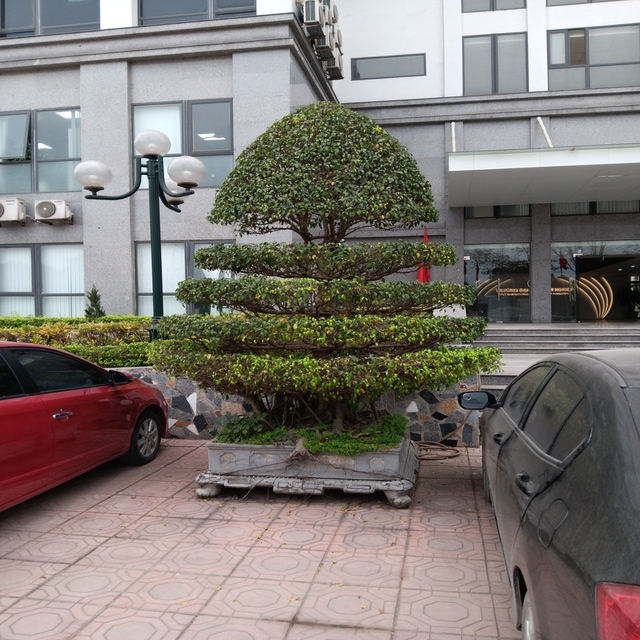caycanh: (164, 102, 485, 513)
